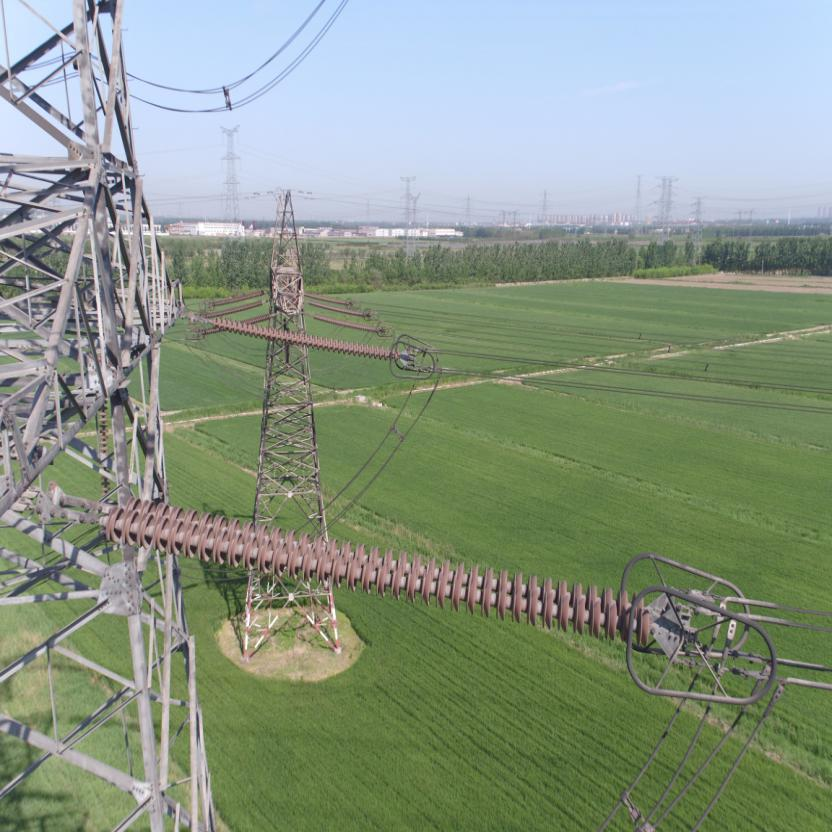insulator: (74, 491, 664, 651), (202, 313, 403, 366)
